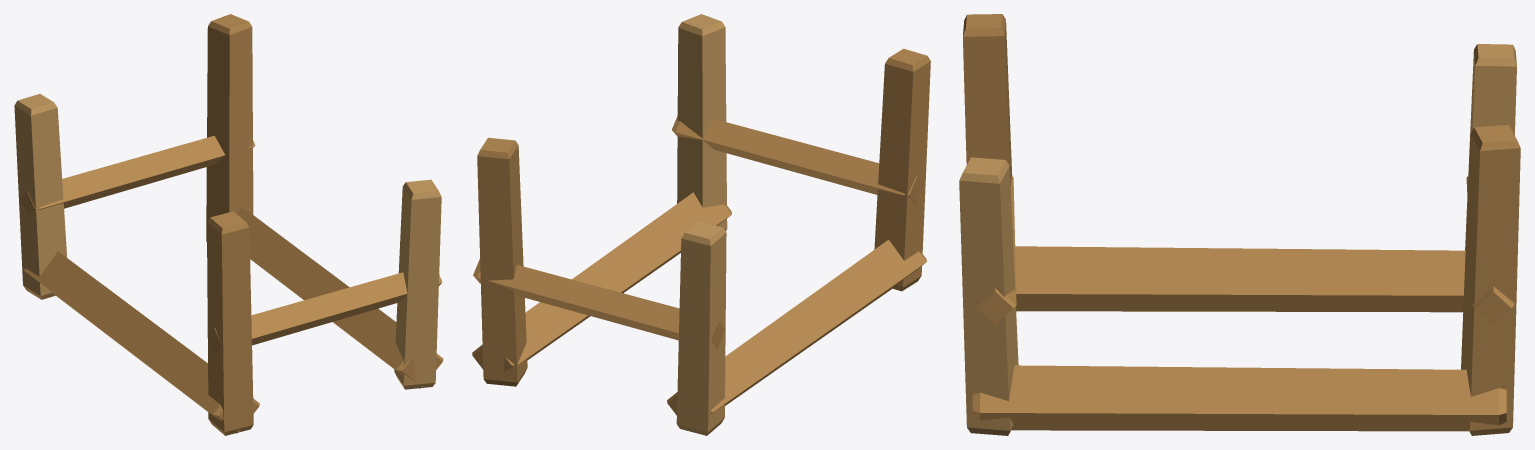
Rendered from LogPileEmpty.glb.
3 views of the same model, side by side, from view 1: azimuth 30°, elevation 25°; view 2: azimuth 150°, elevation 25°; view 3: azimuth 270°, elevation 25° (orthographic). The views are drawn at different scales.
Visible parts, largest first — view 1: Stake_0_0, Stake_1_1, Bearer_0, Stake_1_0, Stake_0_1, Bearer_1, SideRail_1, SideRail_0; view 2: Stake_1_1, Bearer_0, Stake_0_0, Stake_0_1, Stake_1_0, Bearer_1, SideRail_0, SideRail_1; view 3: Bearer_1, Bearer_0, Stake_1_1, Stake_1_0, Stake_0_0, Stake_0_1, SideRail_0, SideRail_1.
Part boxes in pixels (x1,y1,x2,y2): Stake_0_0: [207, 211, 253, 435]; Stake_1_1: [206, 14, 253, 241]; Bearer_0: [24, 251, 259, 433]; Stake_1_0: [394, 179, 441, 389]; Stake_0_1: [14, 94, 67, 299]; Bearer_1: [237, 206, 443, 388]; SideRail_1: [20, 135, 255, 216]; SideRail_0: [207, 272, 442, 353]; Stake_1_1: [477, 137, 527, 386]; Bearer_0: [667, 239, 926, 415]; Stake_0_0: [874, 48, 930, 291]; Stake_0_1: [676, 221, 726, 435]; Stake_1_0: [677, 14, 727, 230]; Bearer_1: [472, 192, 731, 372]; SideRail_0: [672, 116, 923, 203]; SideRail_1: [473, 259, 725, 348]; Bearer_1: [972, 365, 1506, 431]; Bearer_0: [1015, 246, 1465, 312]; Stake_1_1: [1461, 124, 1520, 435]; Stake_1_0: [959, 157, 1018, 435]; Stake_0_0: [963, 14, 1012, 186]; Stake_0_1: [1465, 44, 1516, 250]; SideRail_0: [974, 176, 1016, 324]; SideRail_1: [1466, 176, 1514, 324].
Bounding box in the file's own units: 1.2 × 1.1 × 1.87.
